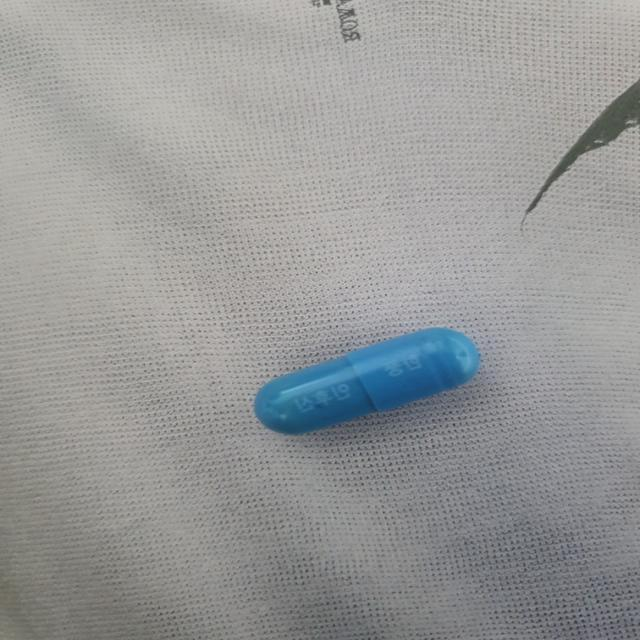pill: (254, 320, 477, 444)
